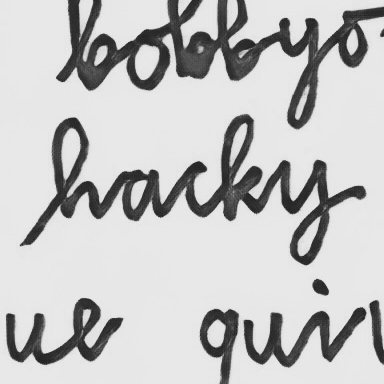a: (118, 166, 162, 223)
c: (180, 159, 212, 220)
h: (48, 114, 104, 221)
k: (218, 111, 265, 222)
y: (275, 155, 332, 267)
